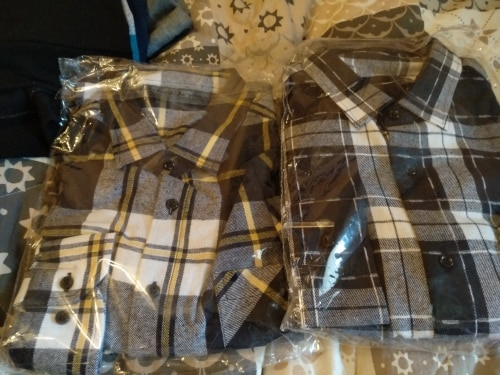shirts: (48, 56, 297, 353), (275, 42, 500, 316)
